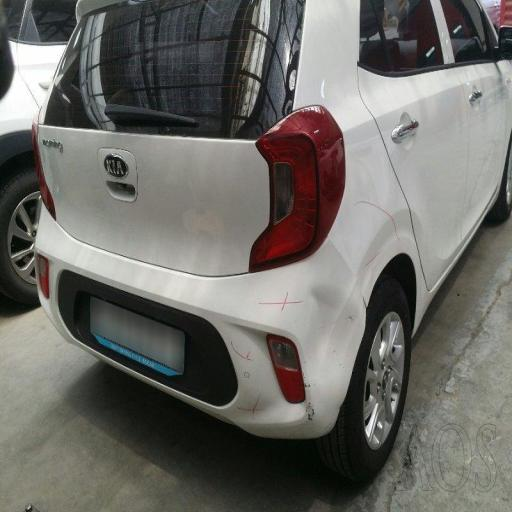dent: (346, 166, 428, 260)
scratch: (220, 288, 346, 437)
